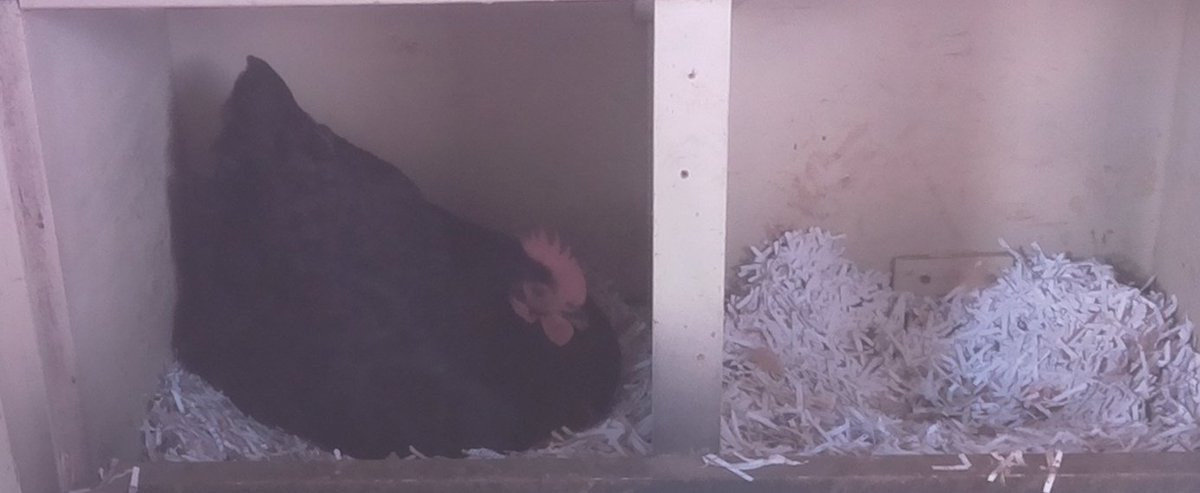hen: (157, 50, 631, 456)
